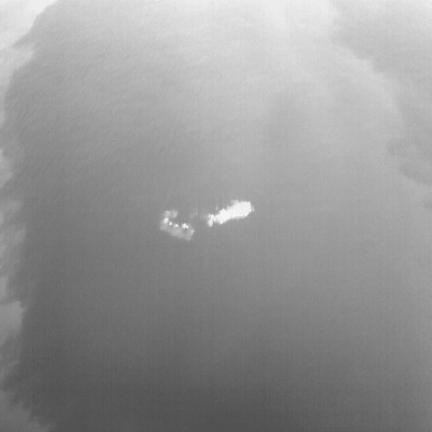flukeprints: (207, 201, 254, 226), (163, 217, 169, 224), (182, 224, 188, 229), (173, 224, 178, 227), (169, 222, 172, 224)
